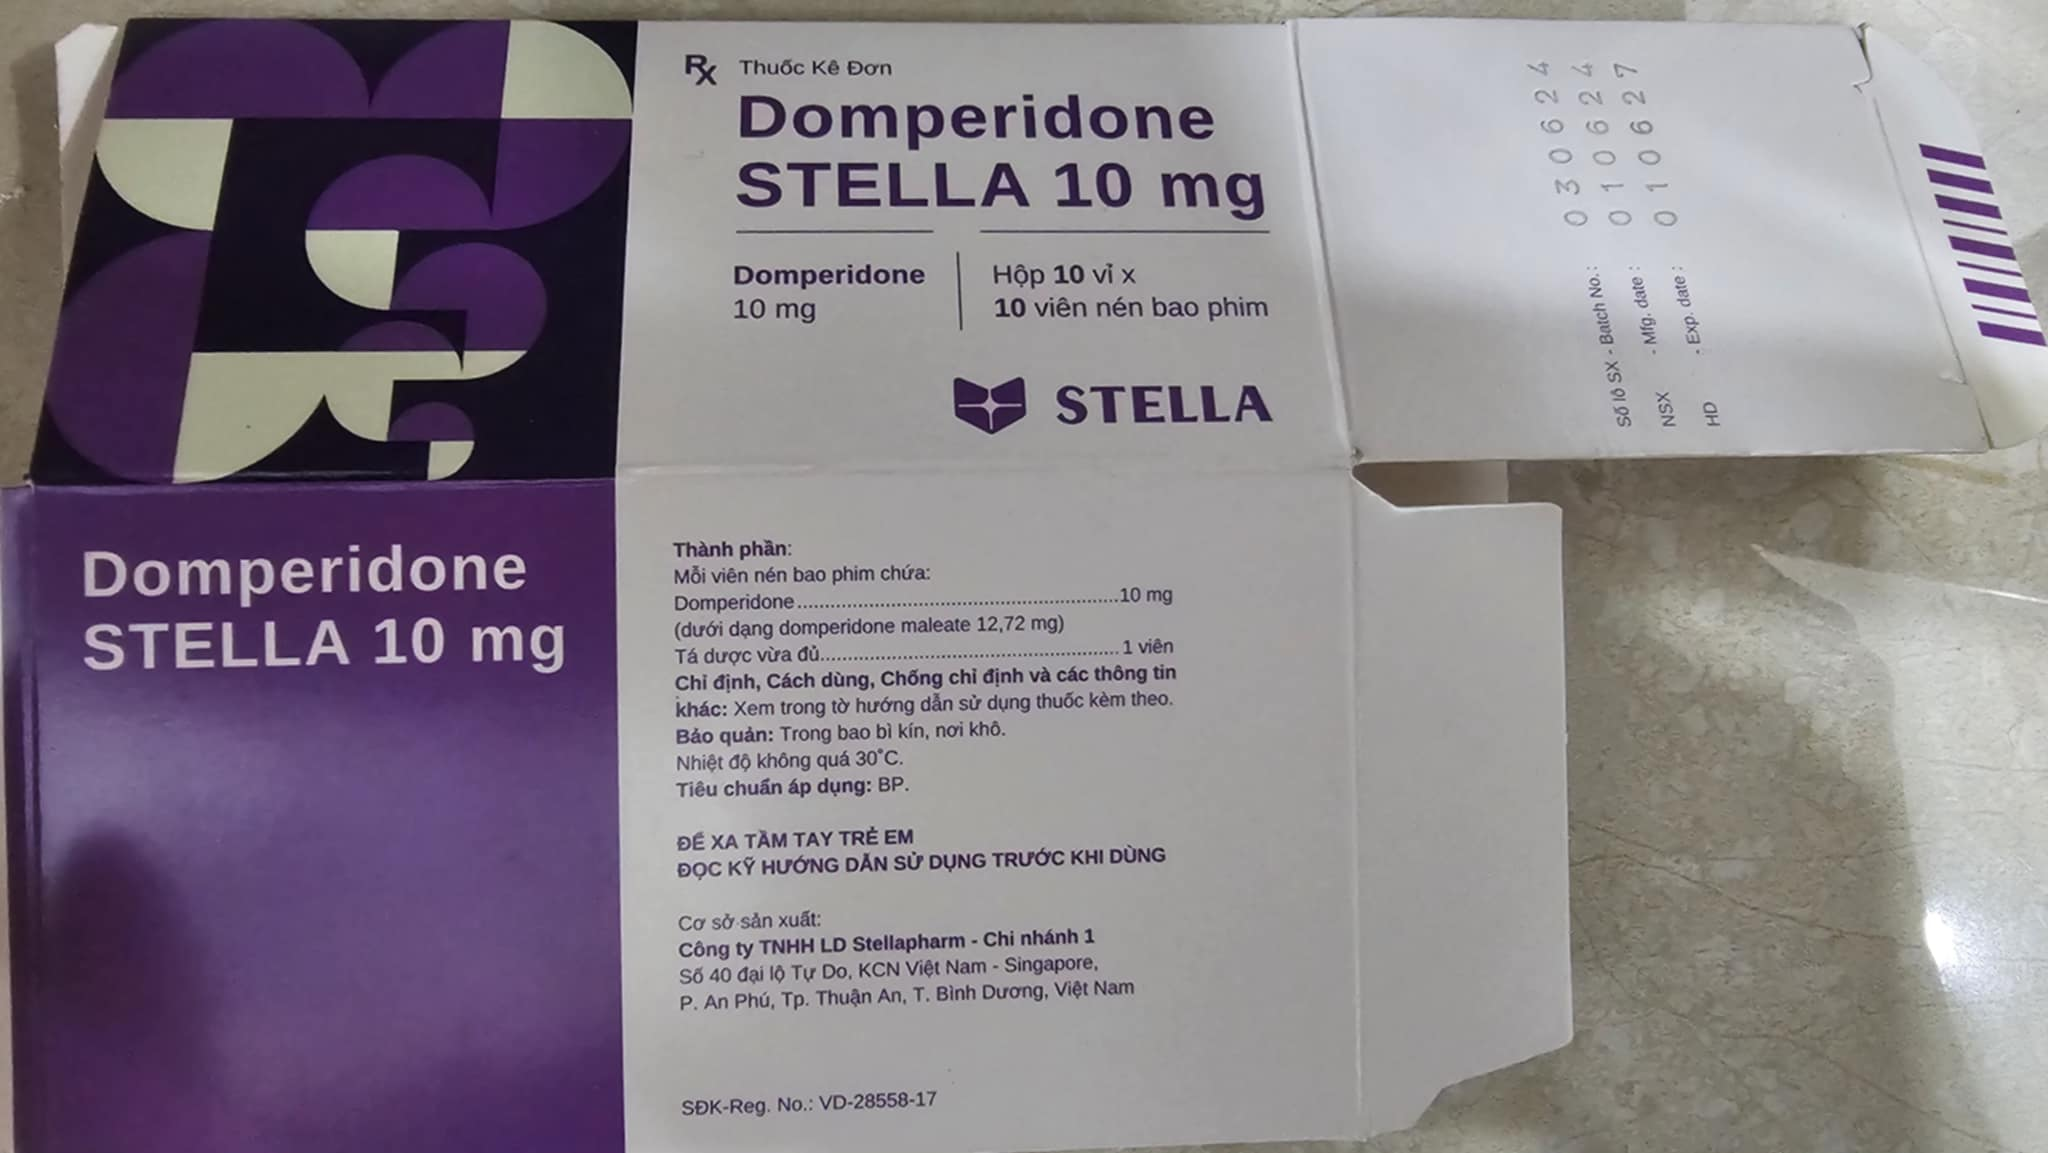Domperidone: (736, 70, 1229, 150)
